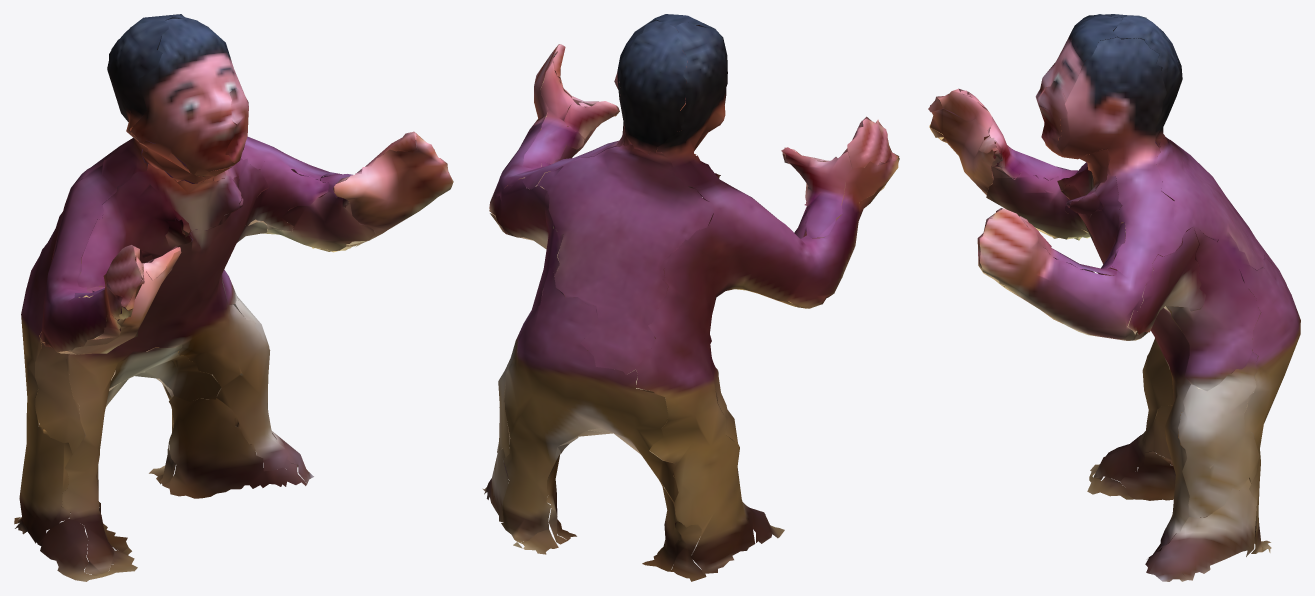
The model's file is dollF.glb.
3 renders of one model, left to right at view 1: azimuth 30°, elevation 25°; view 2: azimuth 150°, elevation 25°; view 3: azimuth 270°, elevation 25°, orthographic. The views are drawn at different scales.
Visible parts, largest first — view 1: Geom; view 2: Geom; view 3: Geom.
Part boxes in pixels (x1,y1,x2,y2): Geom: (14,14,453,581); Geom: (482,14,899,581); Geom: (928,14,1300,581).
Size of the model in its own units: 0.0588 by 0.0829 by 0.056.
1 material, 1 textured.
